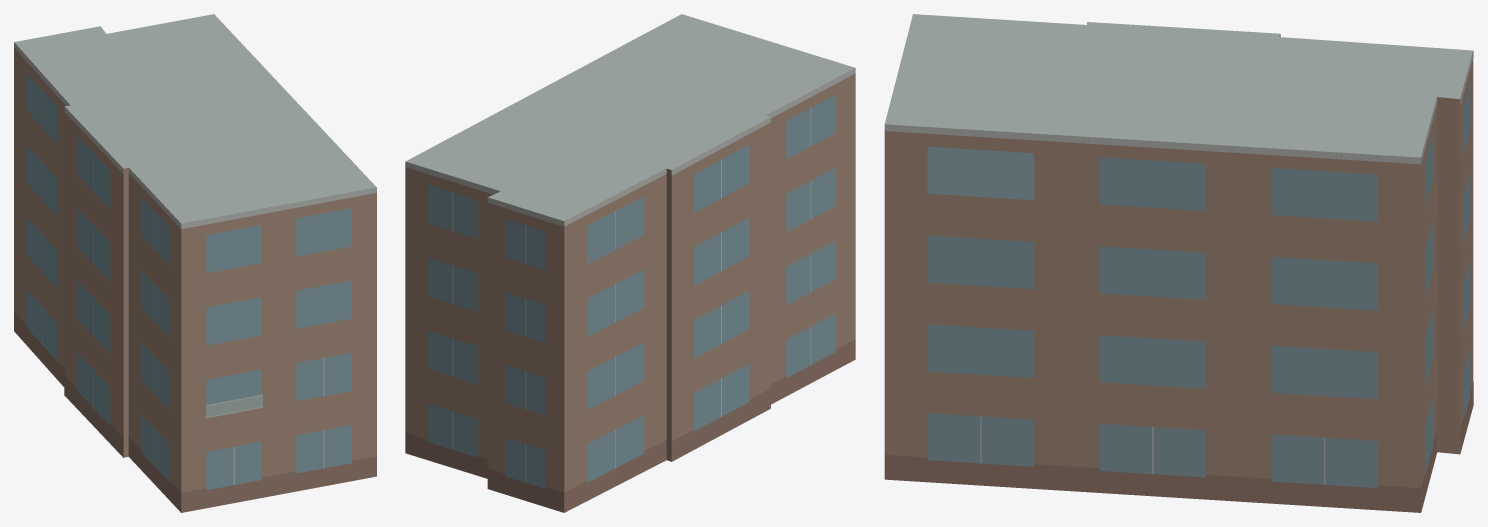
Rendered from survey-upis-32751531.glb.
3 views of the same model, side by side, from view 1: azimuth 30°, elevation 25°; view 2: azimuth 150°, elevation 25°; view 3: azimuth 270°, elevation 25° (orthographic). The views are drawn at different scales.
Visible parts, largest first — view 1: survey-upis-32751531.tmp; view 2: survey-upis-32751531.tmp; view 3: survey-upis-32751531.tmp.
Part boxes in pixels (x1,y1,x2,y2): survey-upis-32751531.tmp: [14, 14, 376, 512]; survey-upis-32751531.tmp: [405, 14, 855, 512]; survey-upis-32751531.tmp: [884, 14, 1473, 512].
Size of the model in its own units: 11.2 by 12.9 by 19.39.
